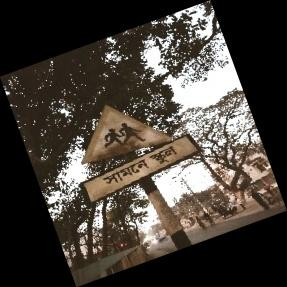School-in-front: (79, 104, 199, 206)
